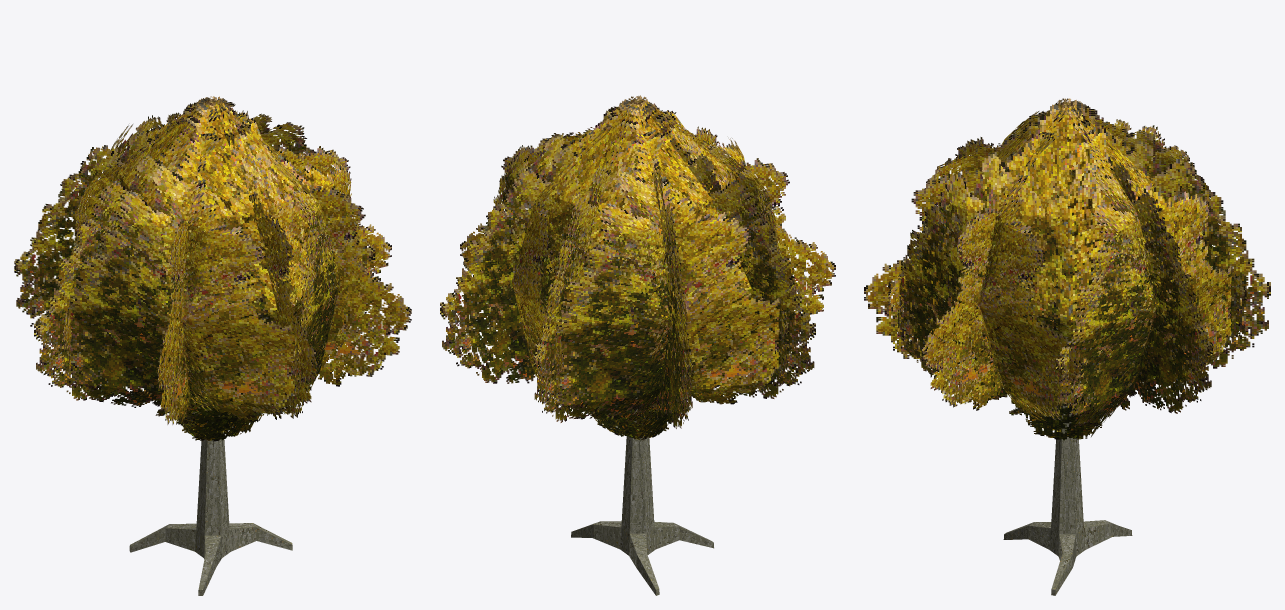
Rendered from tree05_fall.glb.
3 renders of one model, left to right at view 1: azimuth 30°, elevation 25°; view 2: azimuth 150°, elevation 25°; view 3: azimuth 270°, elevation 25°, orthographic.
Parts seen in each view (by area): view 1: tree05; view 2: tree05; view 3: tree05.
Boxes of the visible parts, bbox=[...] form: tree05: bbox=[14, 96, 411, 595]; tree05: bbox=[440, 95, 835, 595]; tree05: bbox=[864, 98, 1270, 595].
Size of the model in its own units: 6.72 by 8.39 by 6.72.
Materials: 1 (1 with a texture image).
